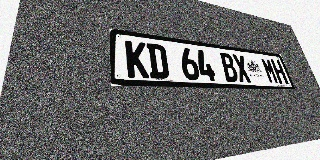4: (195, 49, 216, 81)
6: (178, 47, 201, 80)
B: (219, 52, 240, 82)
D: (146, 43, 170, 79)
H: (270, 59, 289, 84)
K: (125, 40, 149, 78)
M: (260, 58, 279, 84)
X: (232, 54, 252, 83)
